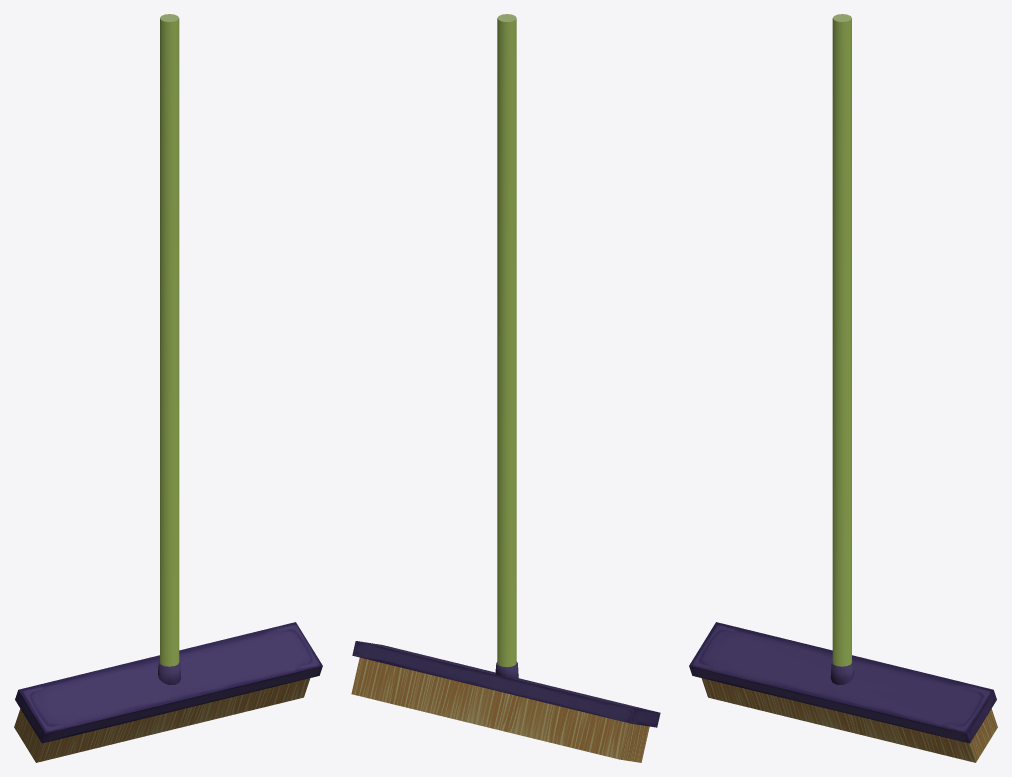
Rendered from Broom.fbx.
3 renders of one model, left to right at view 1: azimuth 30°, elevation 25°; view 2: azimuth 150°, elevation 25°; view 3: azimuth 330°, elevation 25°, orthographic.
Parts seen in each view (by area): view 1: Cylinder; view 2: Cylinder; view 3: Cylinder.
Boxes of the visible parts, left/top/right/bottom form: Cylinder: left=14, top=14, right=322, bottom=762; Cylinder: left=351, top=14, right=660, bottom=762; Cylinder: left=689, top=14, right=997, bottom=762.
Size of the model in its own units: 557 by 1365 by 126.
